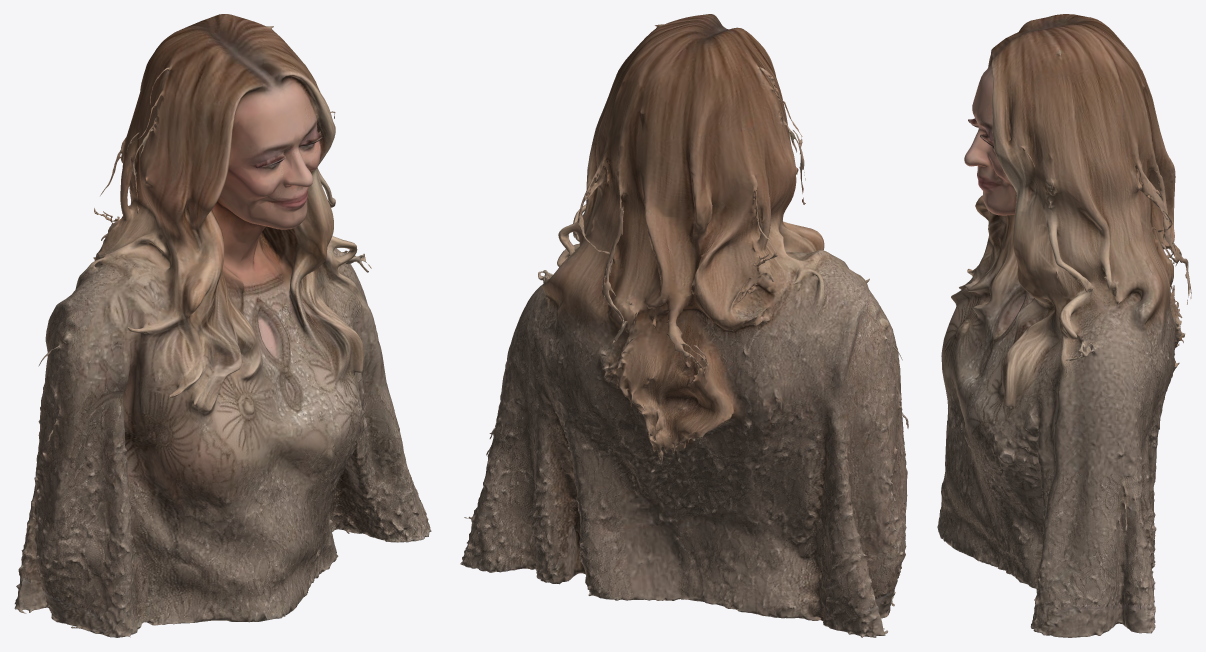
The model's file is mac_simp_q.glb.
The picture shows the model from 3 angles, left to right: view 1: azimuth 30°, elevation 25°; view 2: azimuth 150°, elevation 25°; view 3: azimuth 270°, elevation 25°; orthographic projection. The views are drawn at different scales.
Bounding box in the file's own units: 1.45 × 1.9 × 0.8374.
Materials: 1 (1 with a texture image).
